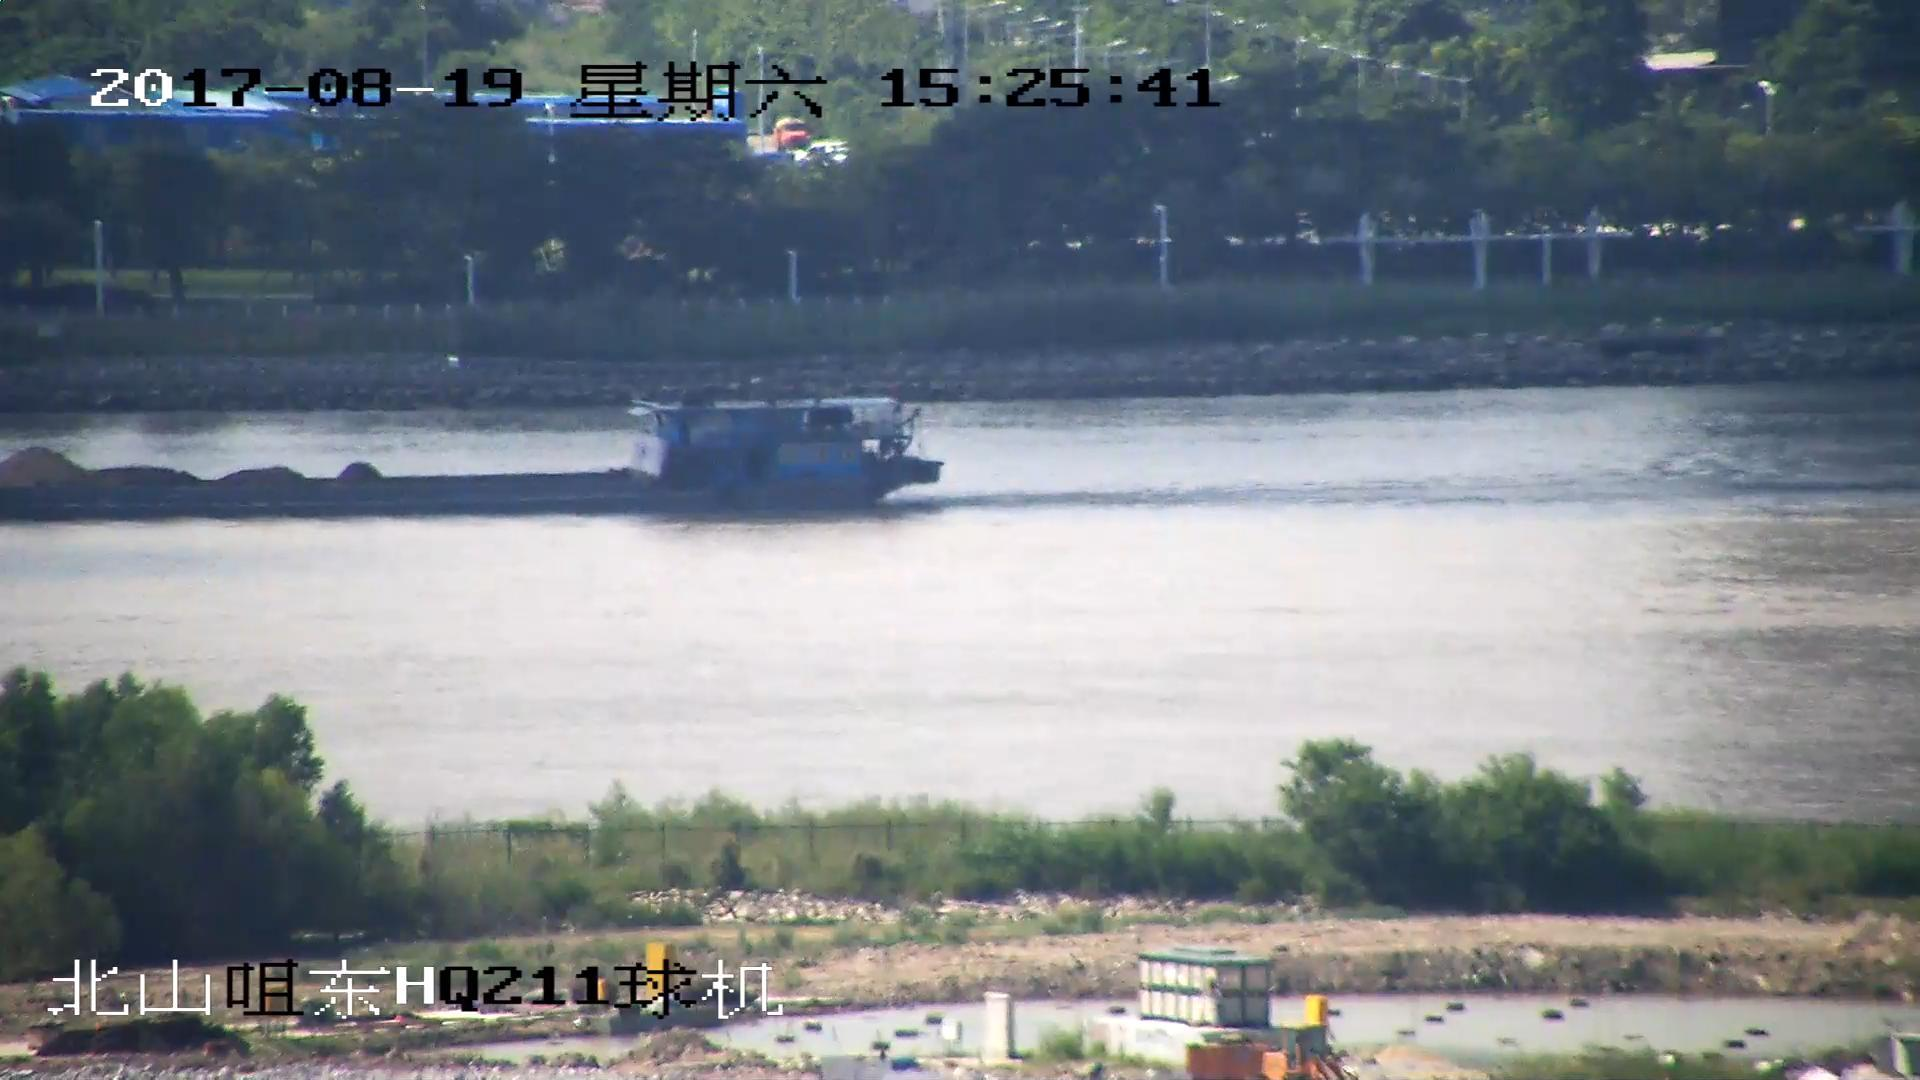Ship: (3, 386, 942, 527)
